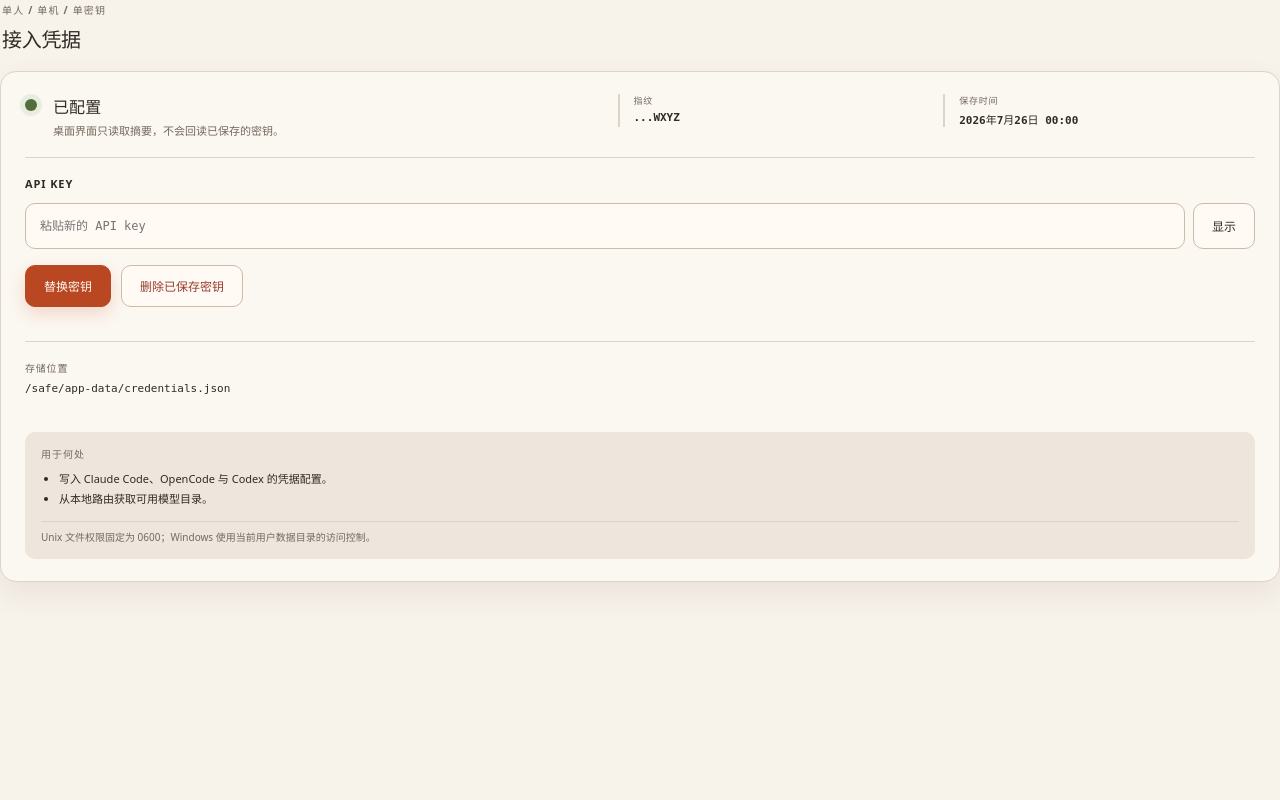
ApiKeysPage › confirms deletion and returns to the absent state
The width and height of the screenshot is (1280, 800).
Click the button "删除已保存密钥" at [182, 286], box [121, 265, 243, 307]
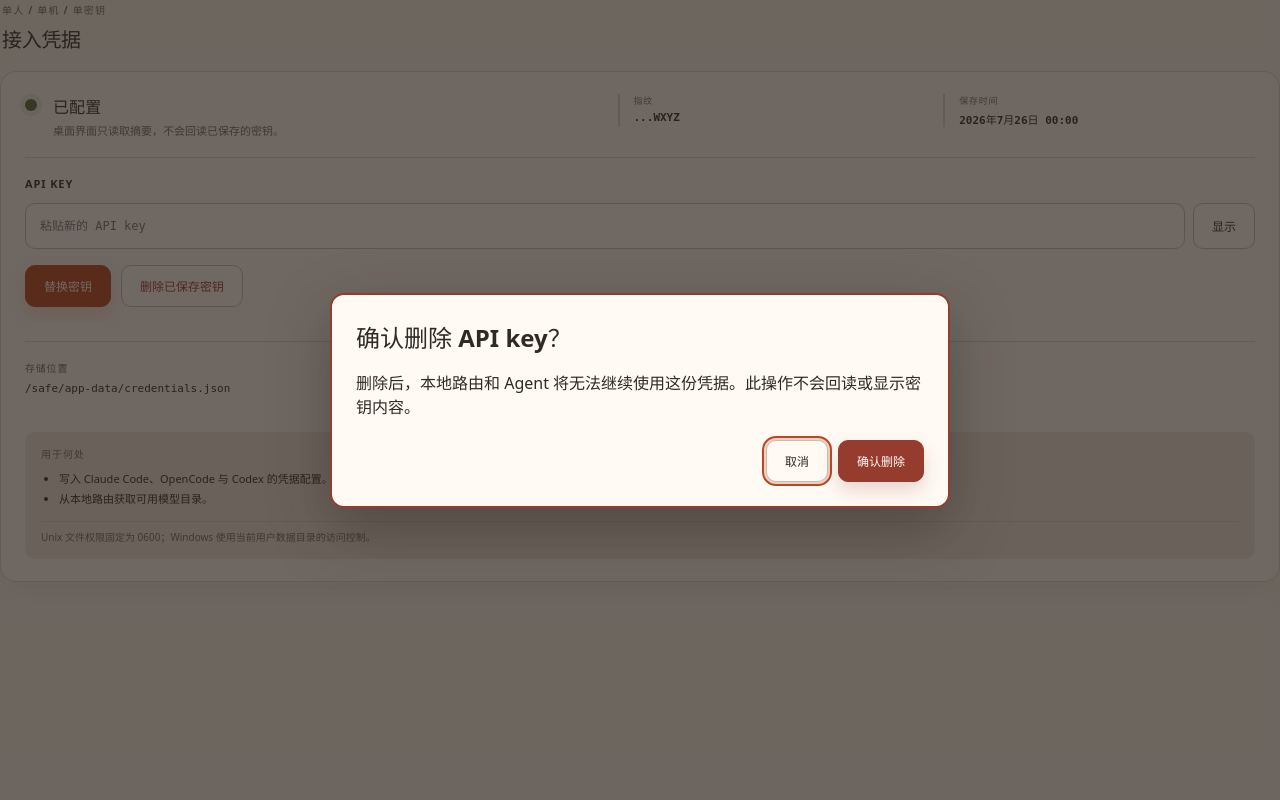
Check: the dialog is shown, box [330, 292, 950, 508]
Press Escape
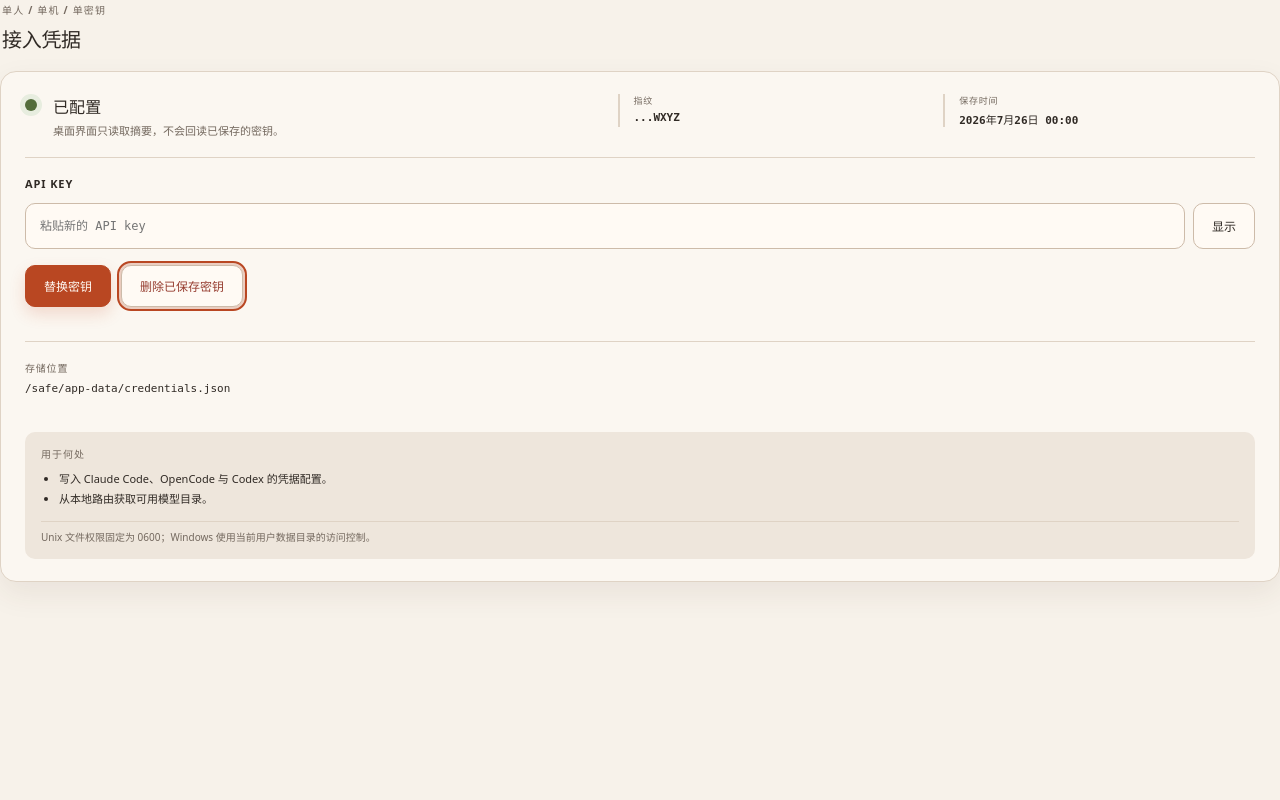
Check: the dialog is gone
Click the button "删除已保存密钥" at [182, 286], box [121, 265, 243, 307]
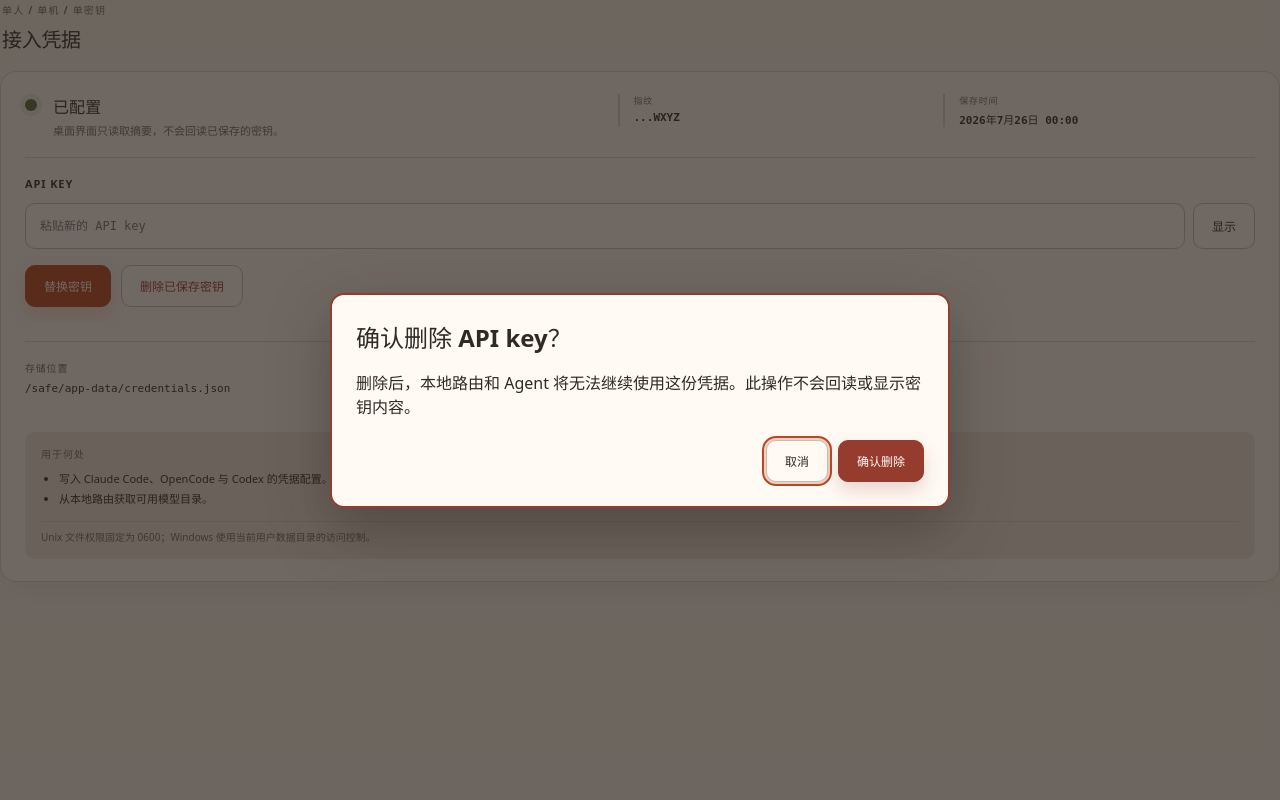
Click the button "确认删除" at [881, 460], box [838, 440, 924, 482]
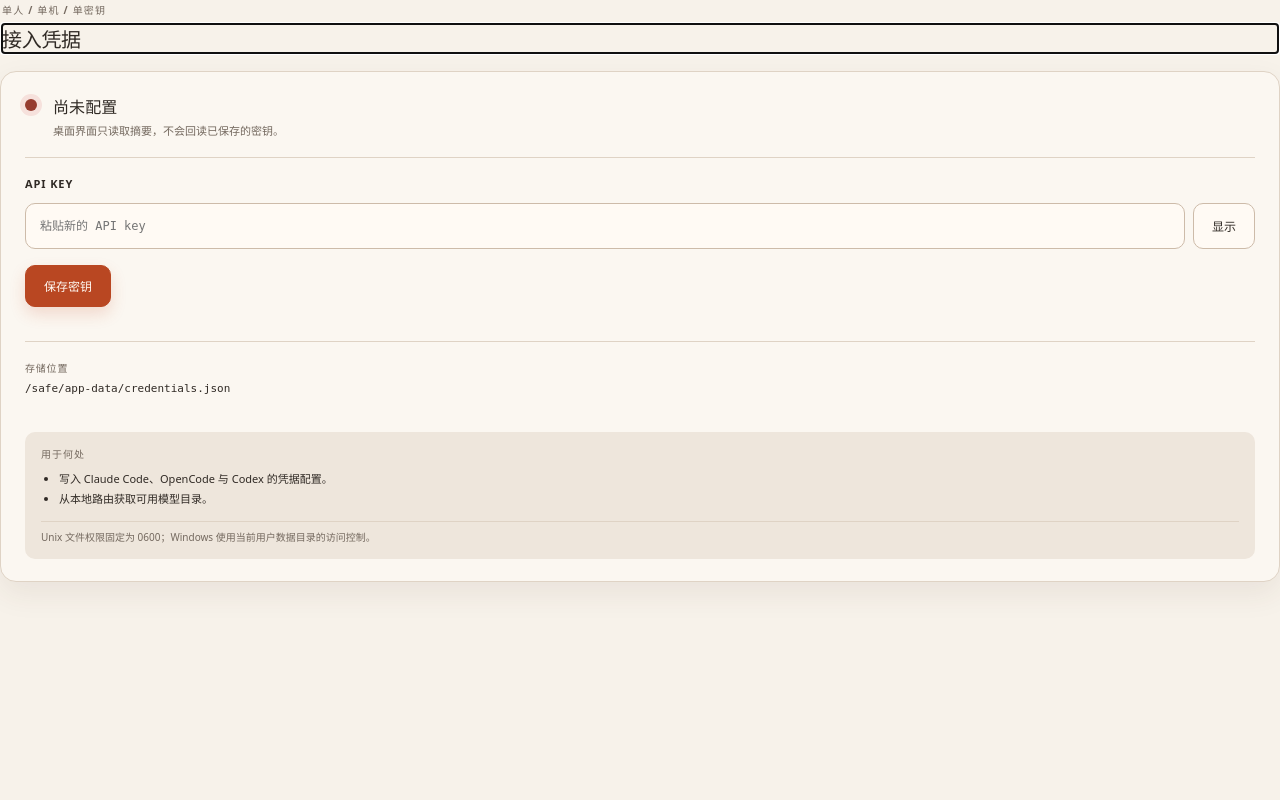
Check: the text "尚未配置" is shown, box [53, 96, 117, 118]
